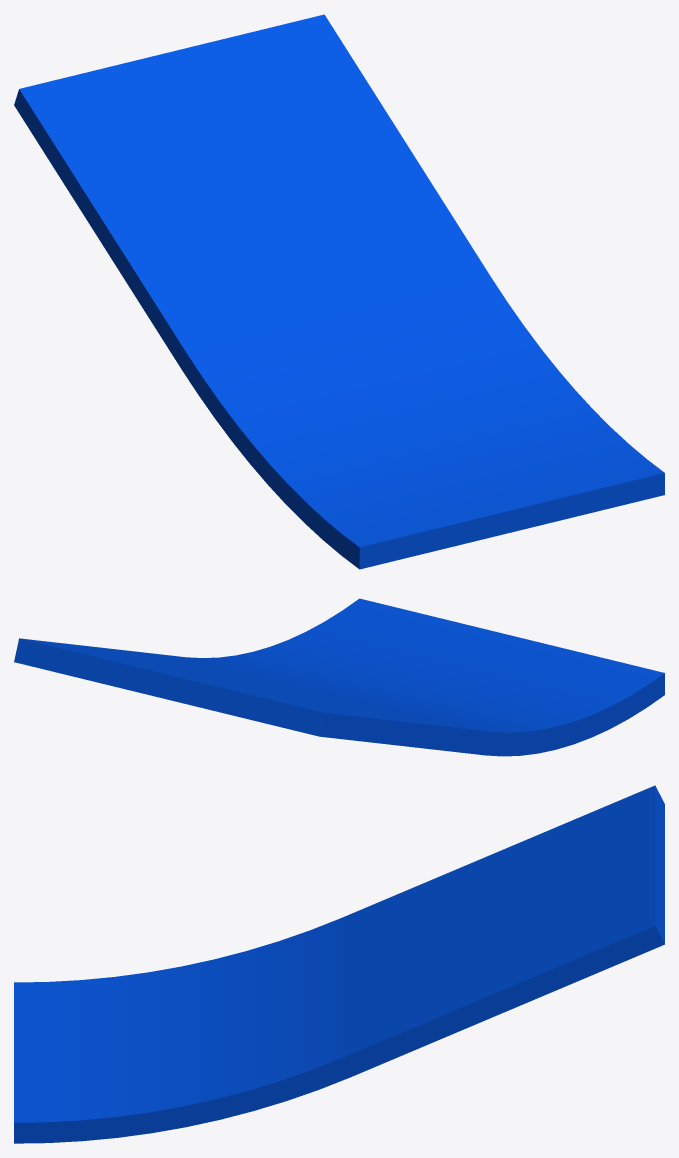
The model's file is Road_Beam_Simple_07_Collider.fbx.
3 renders of one model, top to bottom at view 1: azimuth 30°, elevation 25°; view 2: azimuth 150°, elevation 25°; view 3: azimuth 270°, elevation 25°, orthographic. The views are drawn at different scales.
Parts seen in each view (by area): view 1: Road_Beam_Simple_07_Collider; view 2: Road_Beam_Simple_07_Collider; view 3: Road_Beam_Simple_07_Collider.
Part boxes in pixels (<box>): Road_Beam_Simple_07_Collider: <box>14,14,664,569</box>; Road_Beam_Simple_07_Collider: <box>14,598,664,756</box>; Road_Beam_Simple_07_Collider: <box>14,785,664,1143</box>.
Bounding box in the file's own units: 145 × 105 × 283.
